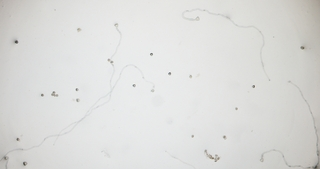germinated: (256, 152, 269, 164), (147, 83, 157, 93), (189, 15, 201, 23), (112, 22, 121, 32), (3, 155, 11, 166)
nongerminated: (298, 42, 308, 53), (38, 91, 48, 100), (232, 104, 240, 114), (186, 72, 195, 80), (189, 132, 197, 140), (130, 81, 138, 89), (73, 96, 81, 104), (250, 82, 257, 91), (221, 133, 228, 142), (20, 160, 29, 167), (165, 70, 173, 77), (148, 50, 155, 58), (75, 25, 82, 33), (73, 85, 80, 93), (13, 38, 20, 46), (13, 135, 21, 142)
